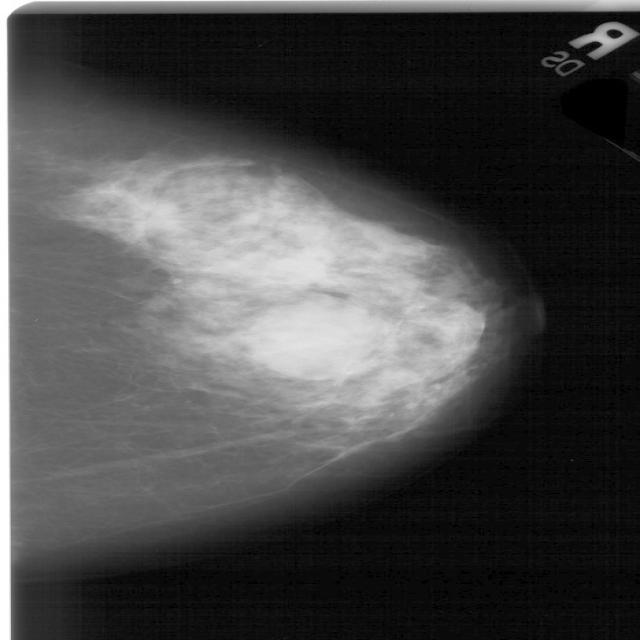tumour: (90, 185, 186, 241)
